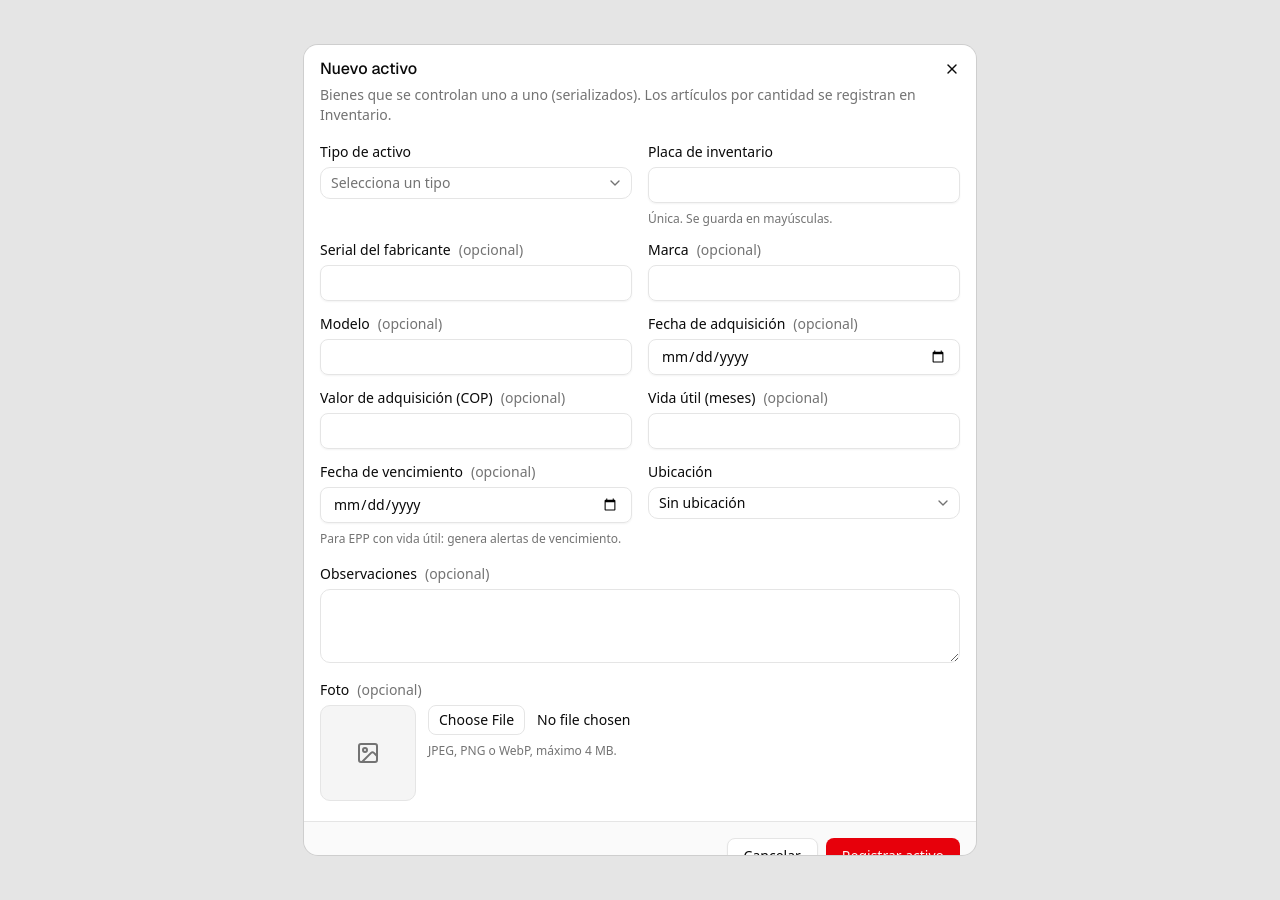
it: AssetFormDialog (005 US1, FR-001, FR-002, RN-008) › solo ofrece tipos serializados activos (RN-007, US1-3)
Click the dropdown named "Tipo de activo": (391, 182) [320,167,632,199]
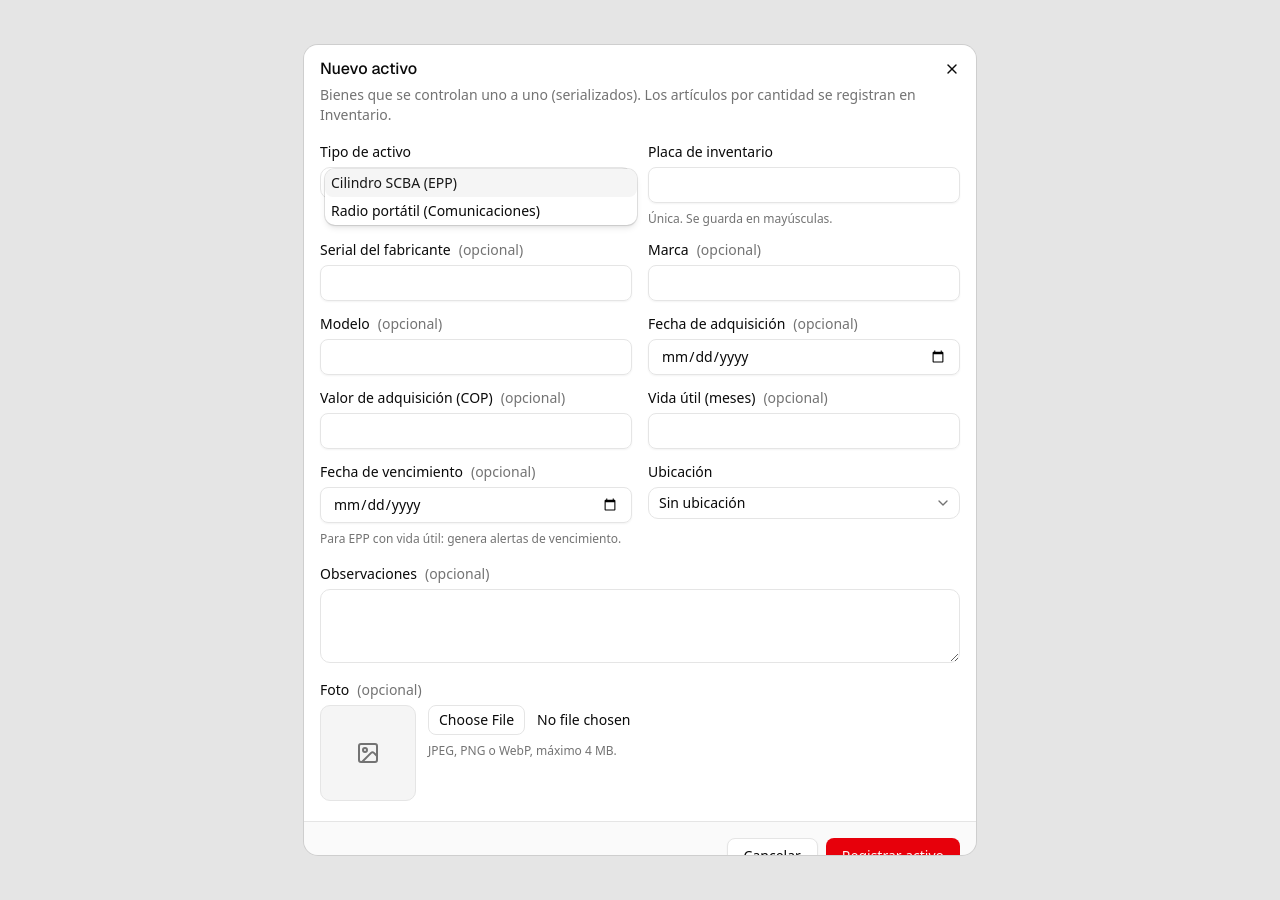
Result: the option "Cilindro SCBA (EPP)" is shown at [325,169,637,197]
Result: the option "Radio portátil (Comunicaciones)" is shown at [331,201,540,220]
